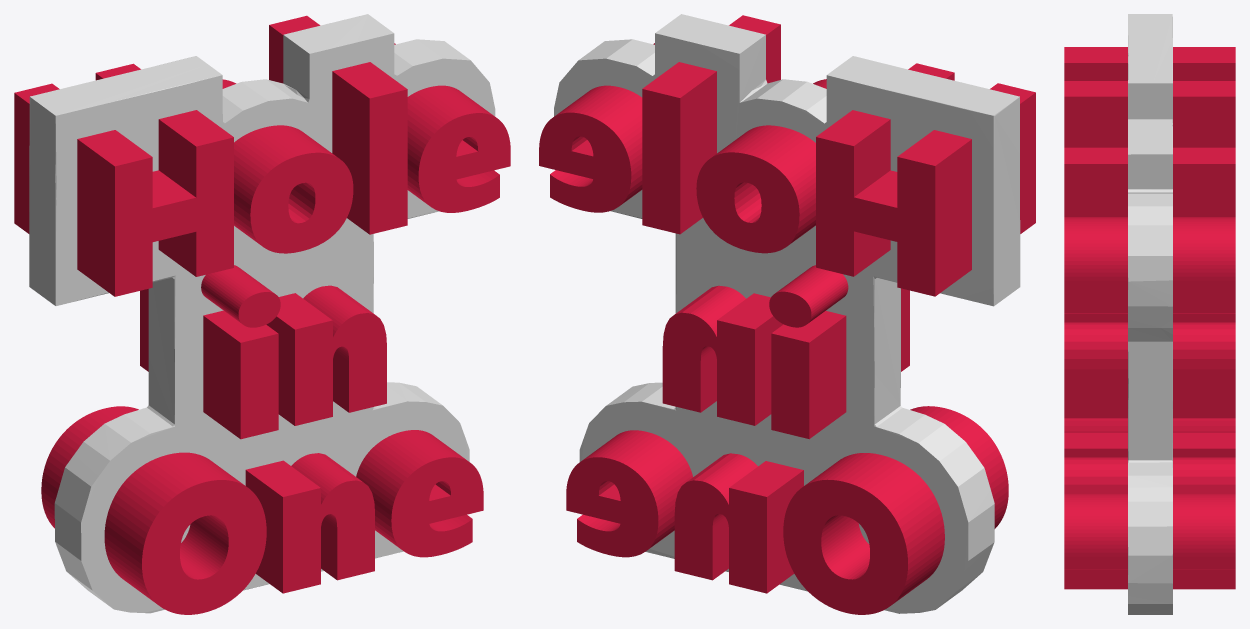
Rendered from single.glb.
3 renders of one model, left to right at view 1: azimuth 30°, elevation 25°; view 2: azimuth 150°, elevation 25°; view 3: azimuth 270°, elevation 25°, orthographic. The views are drawn at different scales.
Parts seen in each view (by area): view 1: Hole_in_One_1, Hole_in_One_2; view 2: Hole_in_One_1, Hole_in_One_2; view 3: Hole_in_One_1, Hole_in_One_2.
Boxes of the visible parts, x1,y1,x2,y2 form: Hole_in_One_1: (14, 15, 510, 614); Hole_in_One_2: (29, 14, 495, 613); Hole_in_One_1: (539, 15, 1035, 614); Hole_in_One_2: (554, 14, 1020, 613); Hole_in_One_1: (1064, 47, 1235, 589); Hole_in_One_2: (1128, 14, 1172, 614).
Size of the model in its own units: 57.39 by 64.96 by 22.75.
